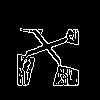X: (25, 25, 78, 70)
